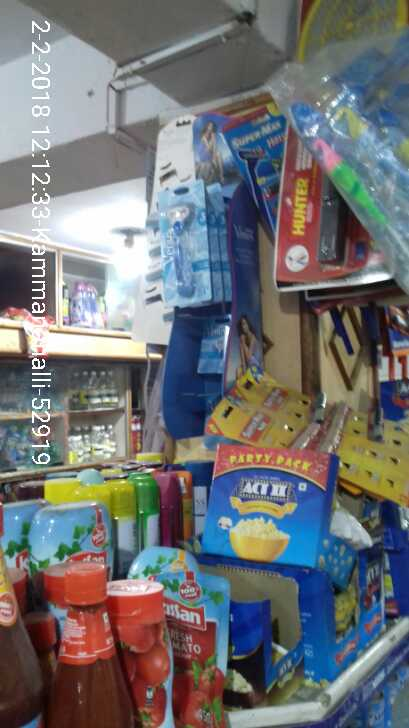venus: (152, 182, 226, 311), (192, 326, 229, 375)
